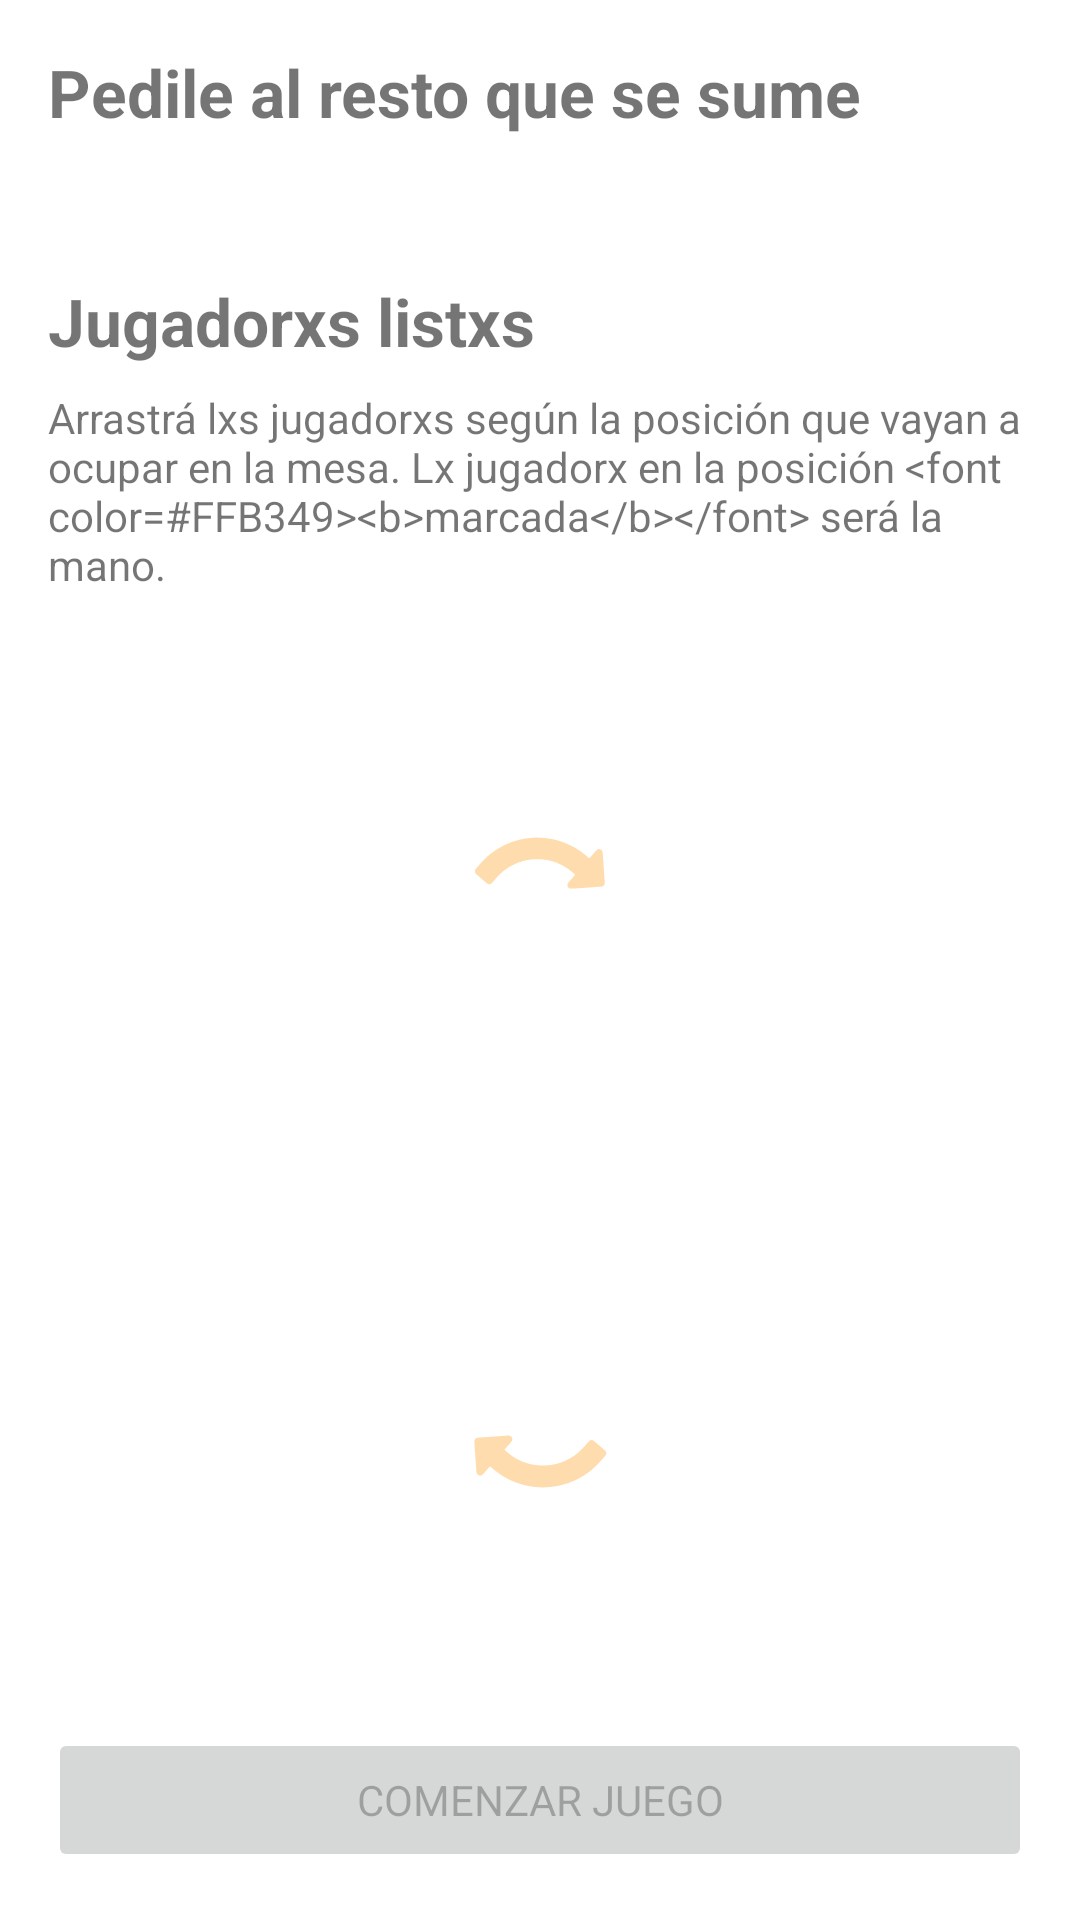

Icon click points for this 1080×1920 phone screenshot, format [x,y]:
curved arrow right: [540,863]
